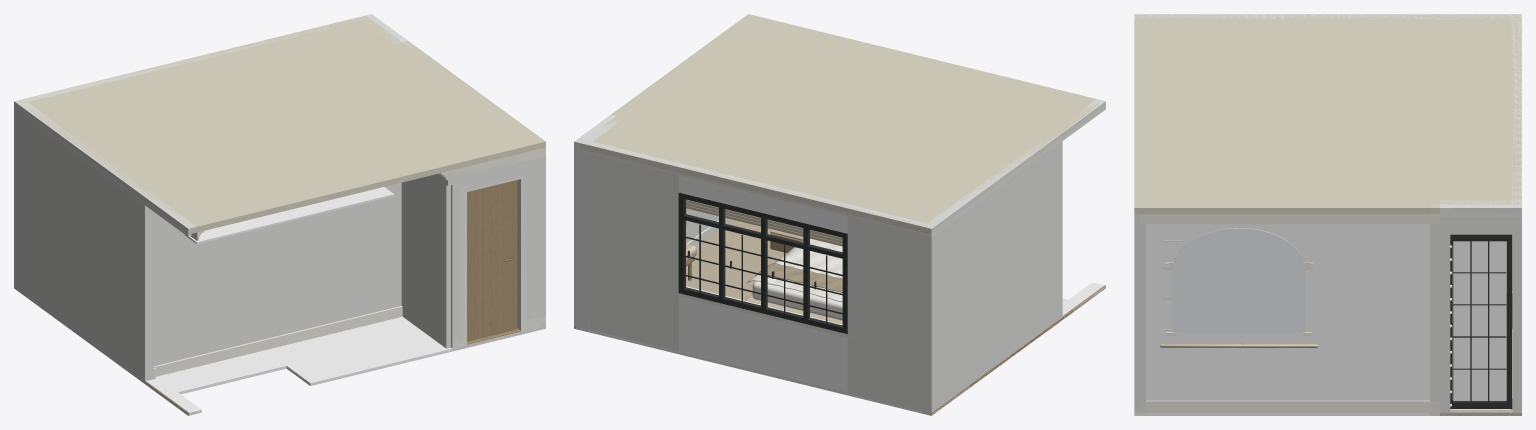
The picture shows the model from 3 angles, left to right: view 1: azimuth 30°, elevation 25°; view 2: azimuth 150°, elevation 25°; view 3: azimuth 270°, elevation 25°; orthographic projection. The views are drawn at different scales.
Parts seen in each view (by area): view 1: Bedroom 3 | ceiling.001, Proposal revision | Bedroom 3 to 5 | end.001, Proposal revision | First west | end.001, Bedroom 5 | ceiling.001, Proposal revision | Bedroom 5 | floor.001, Proposal revision | Bedroom 5 hall | pier 0.001, Bedroom3 01 | entrance door leaf.001, Proposal revision | Bedroom 3 hall door | end.001, Bedroom 3 to 5 | skirting end-1.001, Proposal revision | Upstairs photo detail | Bedroom 2 north. (×4), Proposal revision | Roof join | First west masonry head.001, Proposal revision | Bedroom 3 hall door | pier 0.001 (+9 smaller); view 2: Bedroom 3 | ceiling.001, Proposal revision | First west | end.001, Proposal revision | Bedroom 3 rear | end.001, Proposal revision | Bedroom 3 rear | pier 0.001, Bedroom 5 | ceiling.001, Proposal revision | Bedroom 3 rear | below 0.001, Bedroom3 01 | warm wool carpet.001, Proposal revision | Bedroom 3 rear | lintel 0.001, Proposal revision | Roof join | Bedroom 3 rear masonry head., Proposal revision | Roof join | First west masonry head.001, Proposal revision | Bedroom 3 balcony door | pier 0.001, Bedroom3 01 | draped cotton duvet.001 (+24 smaller); view 3: Bedroom 3 | ceiling.001, Proposal revision | Bathroom bedroom 3 | end.001, Bedroom 5 | ceiling.001, Photo detail | Family arched mirror.001, Rear bay detail | Bedroom 3 clear glass.001, Proposal revision | Bathroom balcony | pier 0.001, Bathroom bedroom 3 | skirting end1.001, Bathroom | ceiling.001, Circulation detail | Cove Bathroom bedroom 3 1.001, Proposal revision | Bathroom hall | pier 0.001, Proposal revision | Bedroom 3 balcony door | pier 0.001, Proposal revision | Rear bay detail | Bedroom 3 leaf stile.0 (×2) (+10 smaller).
Boxes of the visible parts, bbox=[...] form: Bedroom 3 | ceiling.001: bbox=[23, 15, 536, 192]; Proposal revision | Bedroom 3 to 5 | end.001: bbox=[154, 182, 401, 365]; Proposal revision | First west | end.001: bbox=[14, 107, 153, 381]; Bedroom 5 | ceiling.001: bbox=[142, 128, 452, 234]; Proposal revision | Bedroom 5 | floor.001: bbox=[146, 316, 452, 415]; Proposal revision | Bedroom 5 hall | pier 0.001: bbox=[401, 169, 456, 348]; Bedroom3 01 | entrance door leaf.001: bbox=[467, 180, 517, 341]; Proposal revision | Bedroom 3 hall door | end.001: bbox=[517, 152, 539, 330]; Bedroom 3 to 5 | skirting end-1.001: bbox=[154, 306, 402, 376]; Proposal revision | Upstairs photo detail | Bedroom 2 north. (×4): bbox=[184, 187, 394, 243]; Proposal revision | Roof join | First west masonry head.001: bbox=[14, 99, 196, 234]; Proposal revision | Bedroom 3 hall door | pier 0.001: bbox=[451, 167, 466, 347]; Bedroom 3 | ceiling.001: bbox=[580, 17, 1055, 234]; Proposal revision | First west | end.001: bbox=[922, 141, 1062, 412]; Proposal revision | Bedroom 3 rear | end.001: bbox=[580, 149, 678, 351]; Proposal revision | Bedroom 3 rear | pier 0.001: bbox=[847, 216, 930, 411]; Bedroom 5 | ceiling.001: bbox=[793, 37, 1099, 136]; Proposal revision | Bedroom 3 rear | below 0.001: bbox=[678, 293, 847, 392]; Bedroom3 01 | warm wool carpet.001: bbox=[686, 220, 786, 300]; Proposal revision | Bedroom 3 rear | lintel 0.001: bbox=[678, 175, 847, 233]; Proposal revision | Roof join | Bedroom 3 rear masonry head.: bbox=[580, 140, 933, 231]; Proposal revision | Roof join | First west masonry head.001: bbox=[922, 99, 1105, 232]; Proposal revision | Bedroom 3 balcony door | pier 0.001: bbox=[574, 147, 587, 328]; Bedroom3 01 | draped cotton duvet.001: bbox=[746, 238, 842, 302]; Bedroom 3 | ceiling.001: bbox=[1140, 14, 1521, 204]; Proposal revision | Bathroom bedroom 3 | end.001: bbox=[1146, 224, 1429, 400]; Bedroom 5 | ceiling.001: bbox=[1134, 14, 1242, 157]; Photo detail | Family arched mirror.001: bbox=[1172, 228, 1305, 332]; Rear bay detail | Bedroom 3 clear glass.001: bbox=[1453, 241, 1506, 400]; Proposal revision | Bathroom balcony | pier 0.001: bbox=[1430, 214, 1450, 412]; Bathroom bedroom 3 | skirting end1.001: bbox=[1140, 400, 1439, 412]; Bathroom | ceiling.001: bbox=[1140, 204, 1439, 214]; Circulation detail | Cove Bathroom bedroom 3 1.001: bbox=[1140, 214, 1439, 224]; Proposal revision | Bathroom hall | pier 0.001: bbox=[1134, 214, 1145, 412]; Proposal revision | Bedroom 3 balcony door | pier 0.001: bbox=[1513, 214, 1521, 412]; Proposal revision | Rear bay detail | Bedroom 3 leaf stile.0 (×2): bbox=[1450, 234, 1512, 408].
Size of the model in its own units: 5.14 by 2.57 by 4.34.
Materials: 26 (5 with a texture image).
